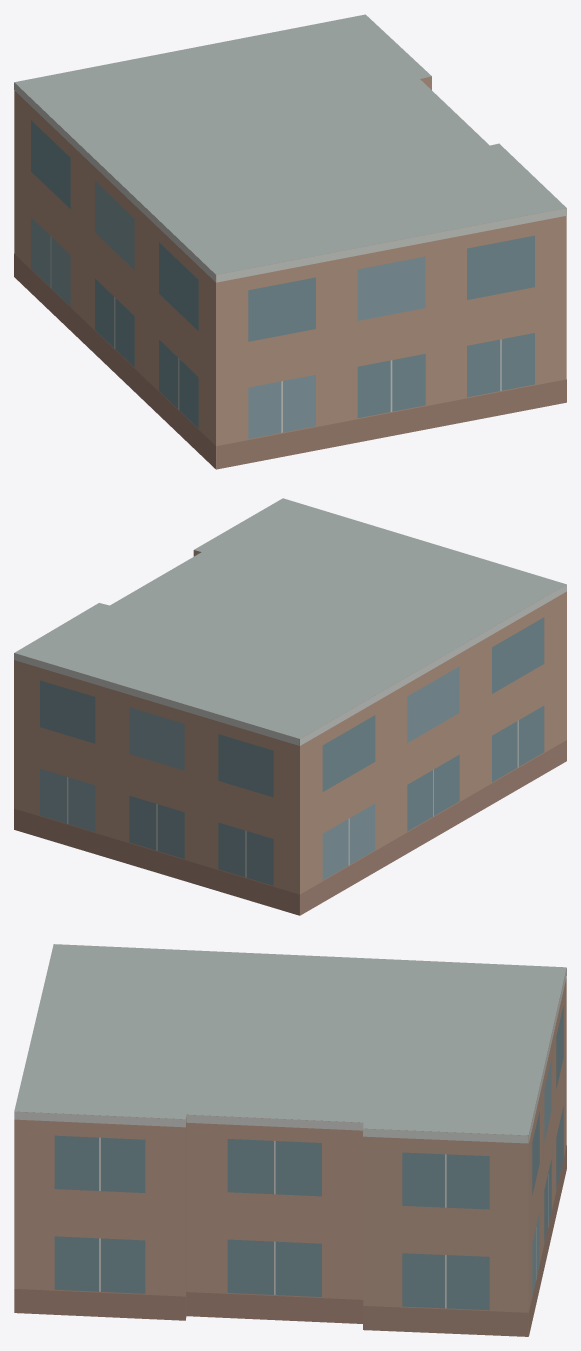
Rendered from survey-upis-32913392.glb.
The picture shows the model from 3 angles, top to bottom: view 1: azimuth 30°, elevation 25°; view 2: azimuth 150°, elevation 25°; view 3: azimuth 270°, elevation 25°; orthographic projection. The views are drawn at different scales.
Parts seen in each view (by area): view 1: survey-upis-32913392.tmp; view 2: survey-upis-32913392.tmp; view 3: survey-upis-32913392.tmp.
Boxes of the visible parts, x1,y1,x2,y2 form: survey-upis-32913392.tmp: [14, 14, 566, 469]; survey-upis-32913392.tmp: [14, 498, 566, 915]; survey-upis-32913392.tmp: [14, 944, 566, 1336].
Bounding box in the file's own units: 12.44 × 6.1 × 15.18.
